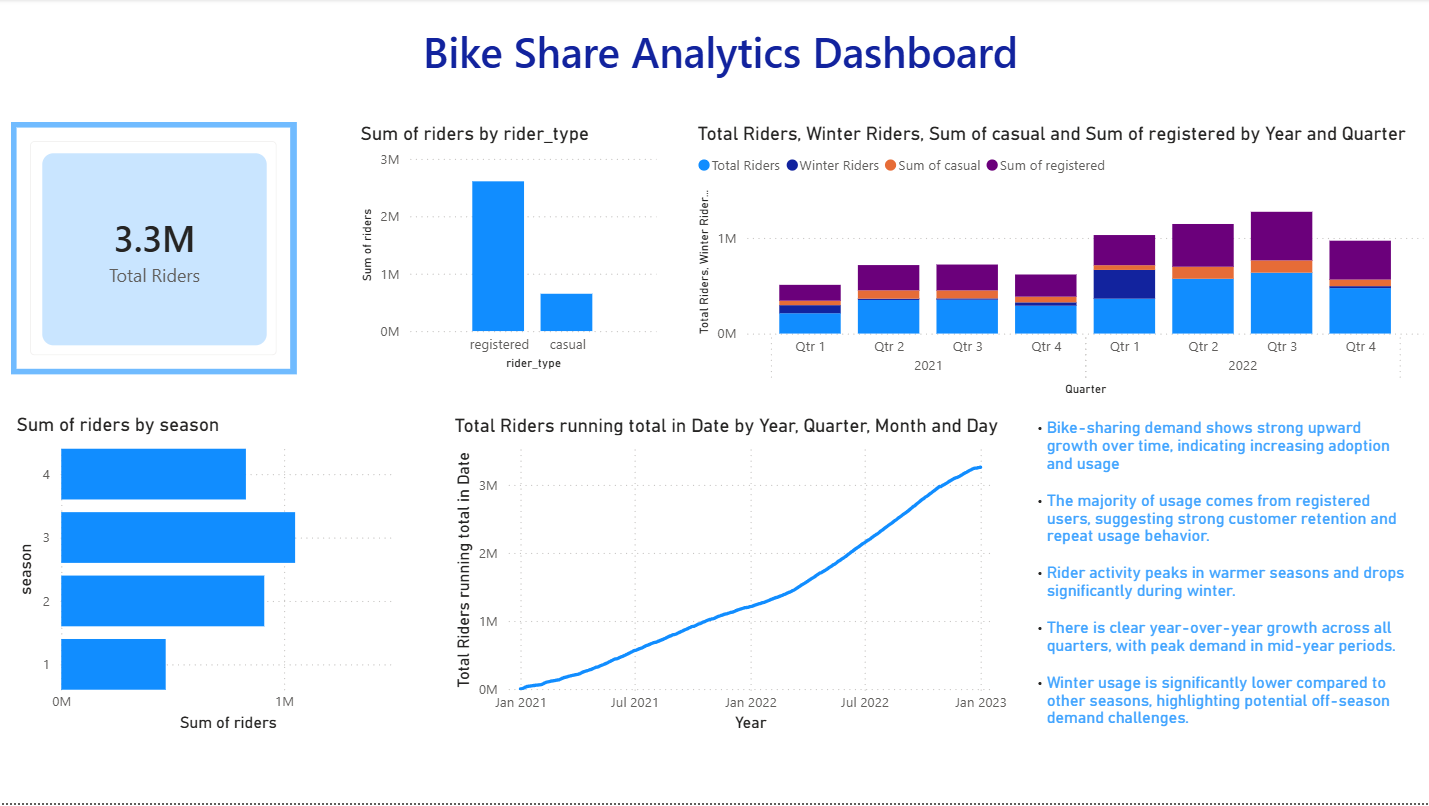

What the dashboard file says about the page in this screenshot:
{"tool":"powerbi","page":{"name":"Dashboard","canvas":[1280,720],"ordinal":0},"visuals":[{"type":"textbox","box":[9.8,0,1270.5,96.6],"z":0},{"type":"cardVisual","fields":{"Data":["Sum(bike_share_yr_0.riders)"]},"box":[9.8,110.1,255.6,226.2],"z":1000},{"type":"clusteredBarChart","fields":{"Category":["bike_share_yr_0.season"],"Y":["Sum(bike_share_yr_0.riders)"]},"box":[9.8,370.5,358.3,289.8],"z":2000},{"type":"lineStackedColumnComboChart","fields":{"Y":["Sum(Merge1.riders)"],"Category":["Merge1.rider_type"]},"box":[317.9,110.1,275.1,226.2],"z":3000},{"type":"columnChart","fields":{"Y":["Calculations.Total Riders","Calculations.Winter Riders","Sum(Pivot_Table.casual)","Sum(Pivot_Table.registered)"],"Category":["Date Table.Date.Variation.Date Hierarchy.Year","Date Table.Date.Variation.Date Hierarchy.Quarter"]},"box":[620,110.1,660.3,249.5],"z":4000},{"type":"lineChart","fields":{"Y":["Calculations.Total Riders running total in Date"],"Category":["Date Table.Date.Variation.Date Hierarchy.Year","Date Table.Date.Variation.Date Hierarchy.Quarter","Date Table.Date.Variation.Date Hierarchy.Month","Date Table.Date.Variation.Date Hierarchy.Day"]},"box":[402.1,371.6,505.1,289.3],"z":5000},{"type":"textbox","box":[914.3,370.7,353.7,290.1],"z":6000}]}

Visuals, with their boxes in screenshot pixels (x1, y1, x2, y2), scaled from the page's 1280x720 canvas onto the 1429x806 screenshot:
textbox: crop(11, 0, 1428, 108)
cardVisual - Sum(bike_share_yr_0.riders): crop(11, 123, 296, 376)
clusteredBarChart - bike_share_yr_0.season x Sum(bike_share_yr_0.riders): crop(11, 415, 411, 739)
lineStackedColumnComboChart - Sum(Merge1.riders) x Merge1.rider_type: crop(355, 123, 662, 376)
columnChart - Calculations.Total Riders x Calculations.Winter Riders: crop(692, 123, 1428, 403)
lineChart - Calculations.Total Riders running total in Date x Date Table.Date.Variation.Date Hierarchy.Year: crop(449, 416, 1013, 740)
textbox: crop(1021, 415, 1416, 740)
